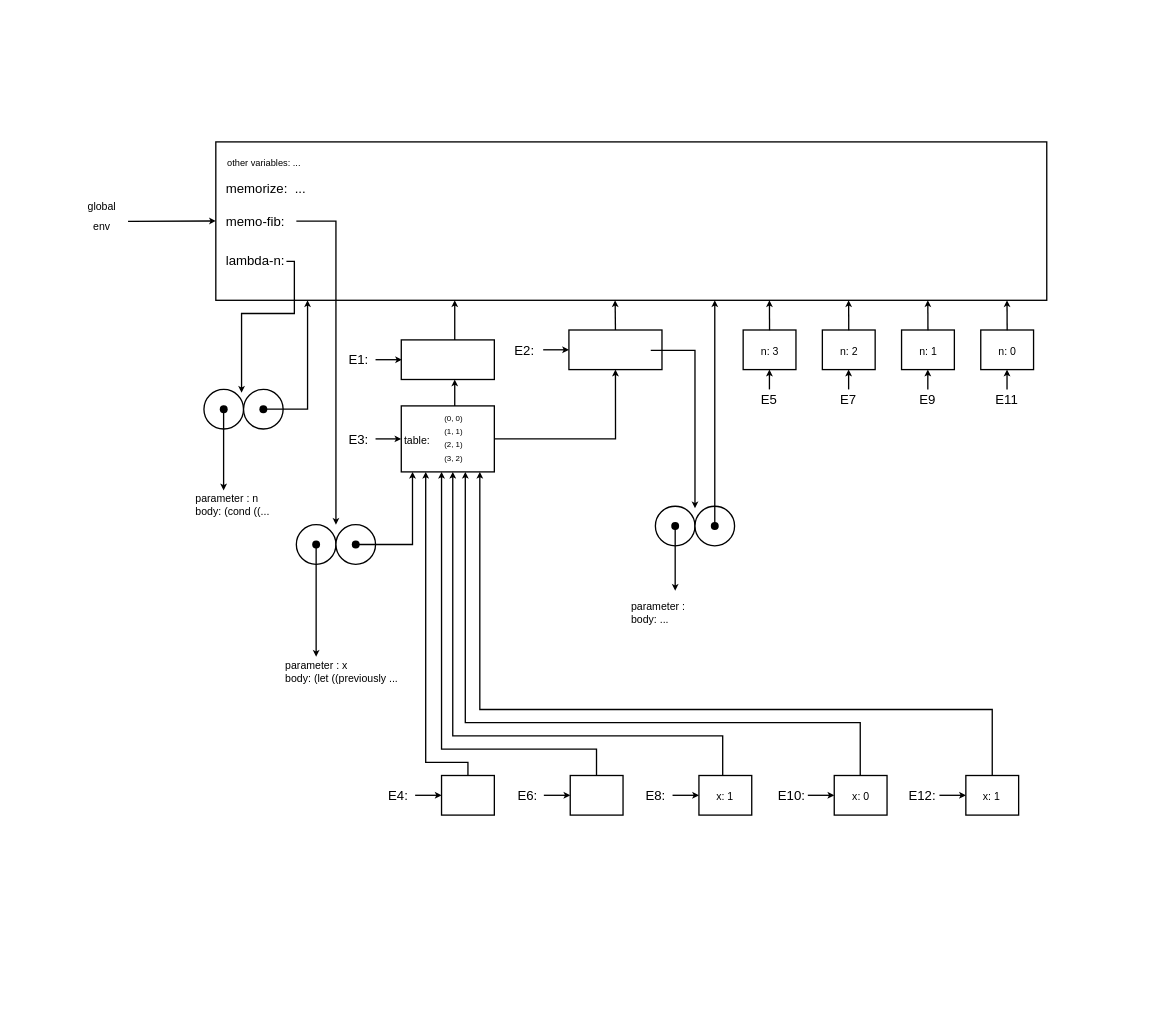
Some shapes in this 1167 by 1022 pixel diagram are drawn without their labels. Here are the shapes that lost their labels. From the top down, the box of each, then its label:
(400, 339, 494, 380): f: lambda-n
(568, 329, 662, 370): (make-table)
(440, 774, 494, 815): x: 3
(569, 774, 623, 815): x: 2
